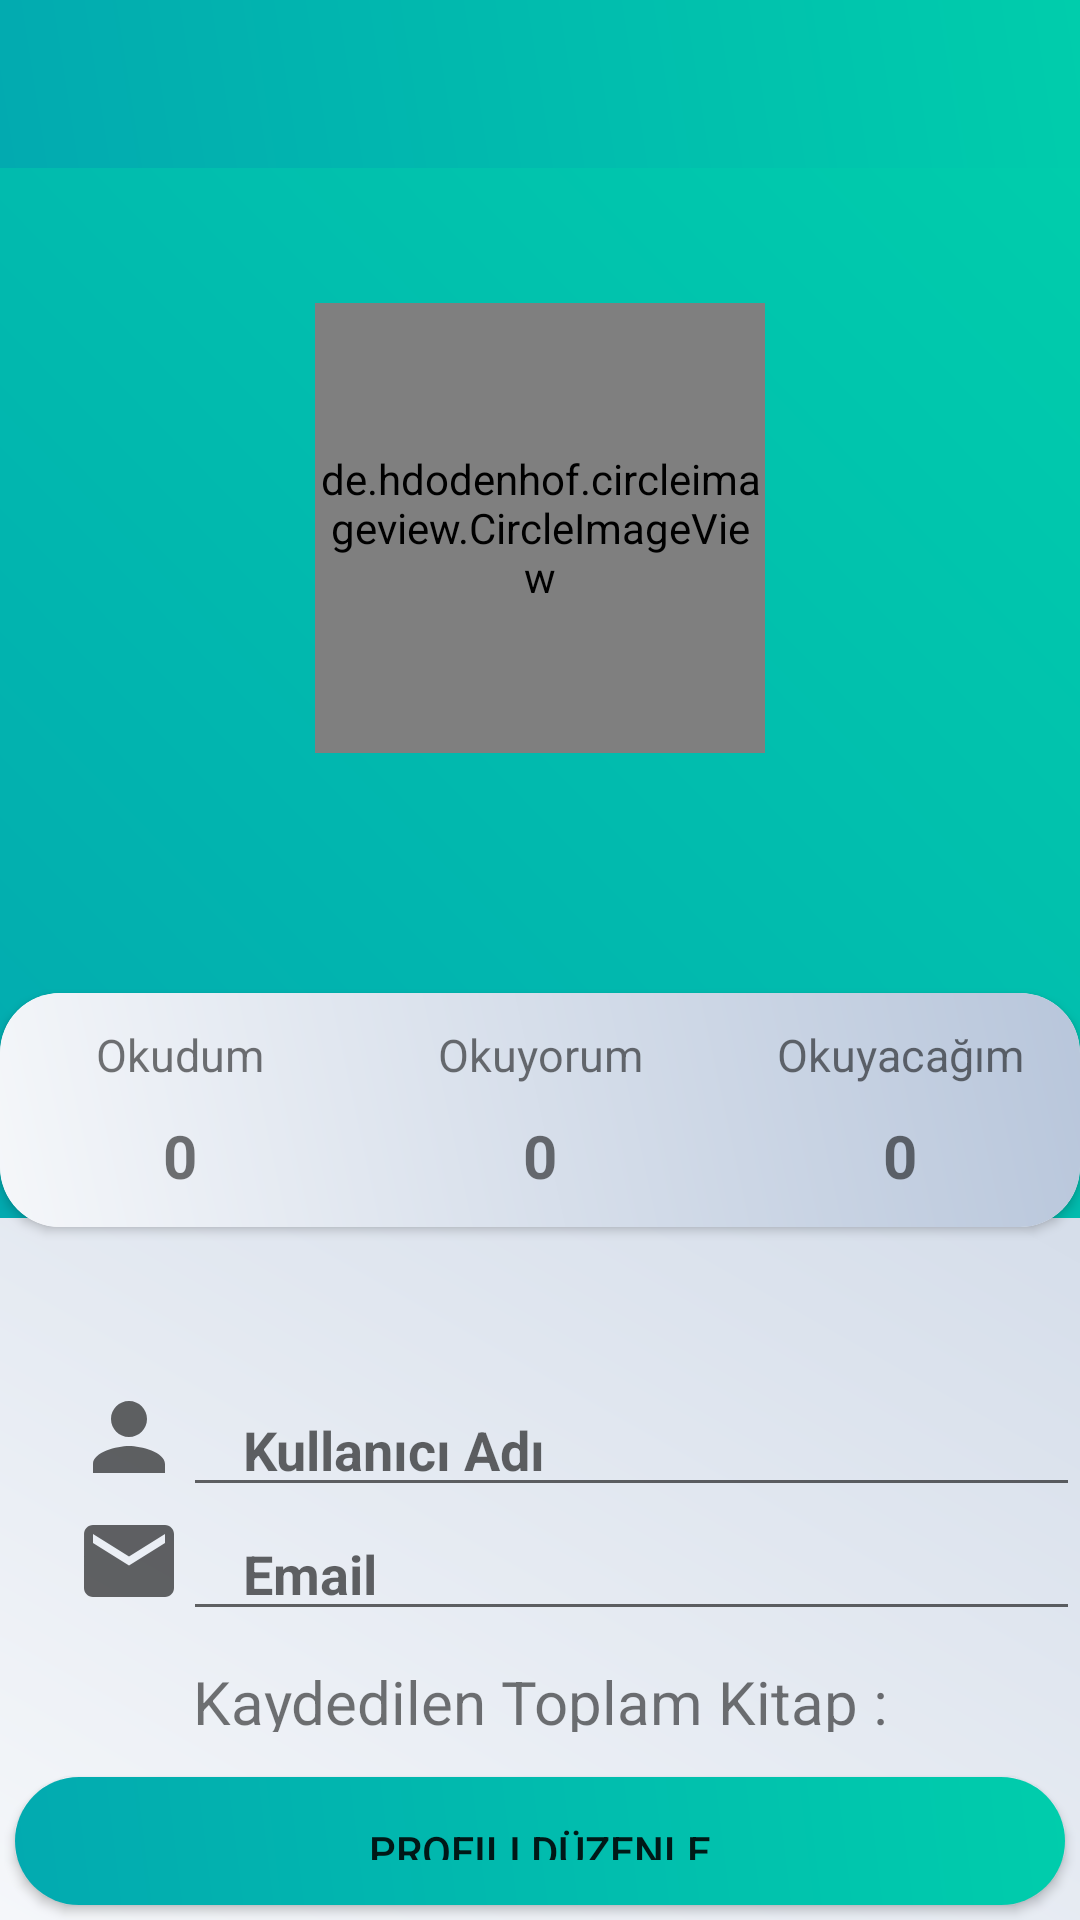

Locate icon controls on the screen. Image size 1080x1920, boxes as (x1, y1, x2, y2).
person: (93, 1401, 165, 1473)
